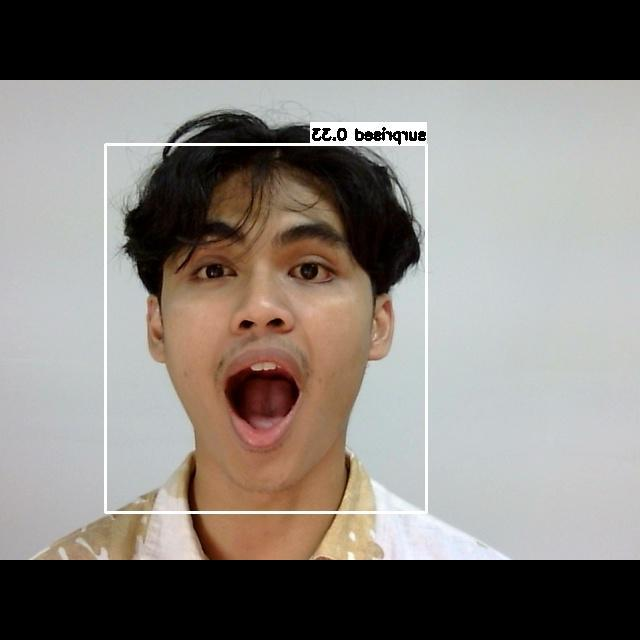Surprised: (157, 195, 392, 455)
